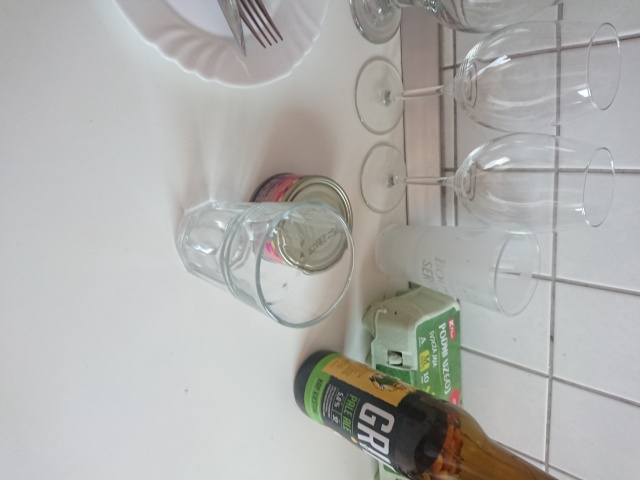Giana Tuna Salad Mexico 185g: (247, 170, 356, 277)
